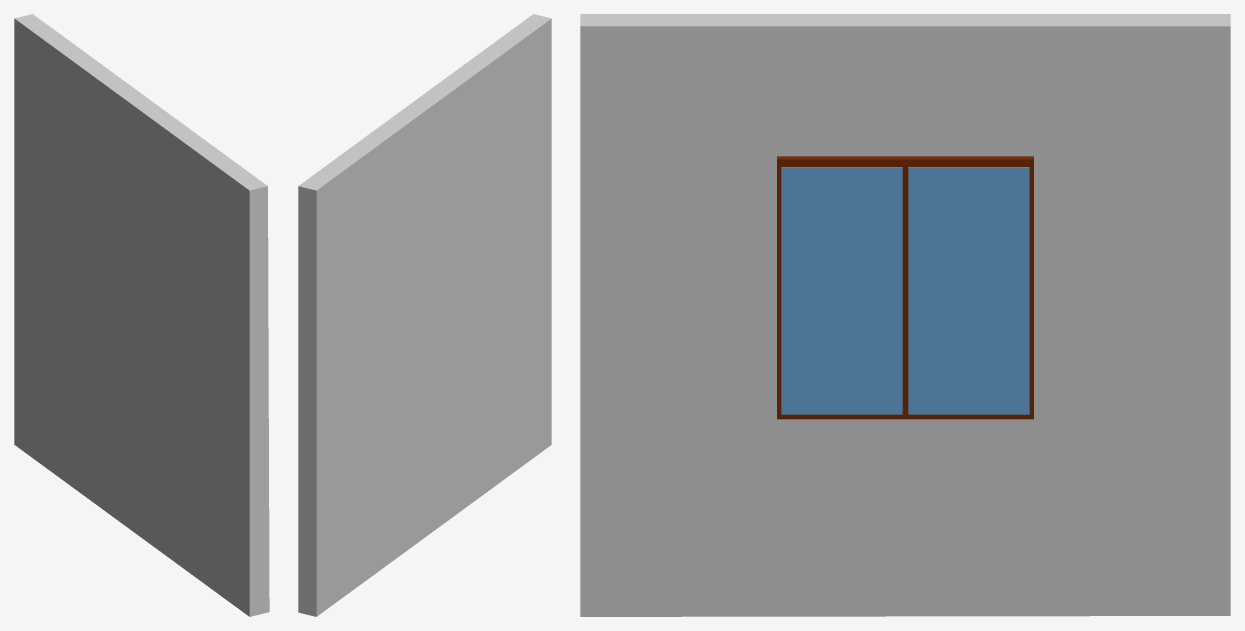
File: window3.fbx
3 renders of one model, left to right at view 1: azimuth 30°, elevation 25°; view 2: azimuth 150°, elevation 25°; view 3: azimuth 270°, elevation 25°, orthographic. The views are drawn at different scales.
Visible parts, largest first — view 1: Cube.010; view 2: Cube.010; view 3: Cube.010, Cube, Cube.001, Cube.002.
Part boxes in pixels (box(x1,y1,x2,y2)): Cube.010: box(14, 14, 269, 616); Cube.010: box(298, 14, 551, 616); Cube.010: box(580, 14, 1230, 616); Cube: box(781, 167, 1029, 414); Cube.001: box(777, 156, 1033, 419); Cube.002: box(902, 163, 908, 416).
Size of the model in its own units: 11.72 by 200 by 200.
